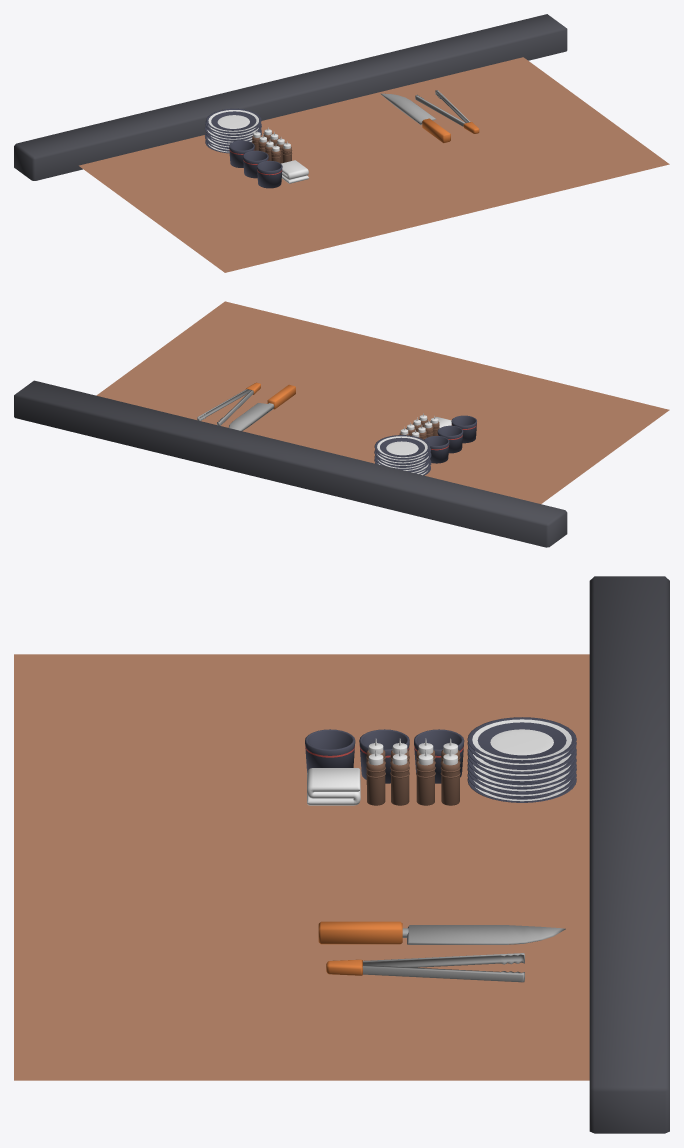
Rendered from obj0519 kitchen.fbx.
The picture shows the model from 3 angles, top to bottom: view 1: azimuth 30°, elevation 25°; view 2: azimuth 150°, elevation 25°; view 3: azimuth 270°, elevation 25°; orthographic projection. The views are drawn at different scales.
Parts seen in each view (by area): view 1: chop, marble, dish stack, miso, knife, sauce, tongs, dishcloth; view 2: chop, marble, dish stack, miso, knife, tongs, sauce; view 3: chop, marble, dish stack, knife, sauce, miso, tongs, dishcloth.
Part boxes in pixels (x1,y1,x2,y2): chop: (79,57,669,272); marble: (14,14,567,180); dish stack: (205,108,261,153); miso: (229,140,282,188); knife: (380,93,450,143); sauce: (252,127,292,163); tongs: (415,90,479,133); dishcloth: (281,160,308,183); chop: (96,301,669,503); marble: (14,380,567,547); dish stack: (374,435,431,475); miso: (424,415,476,463); knife: (228,384,295,430); tongs: (197,382,260,425); sauce: (399,413,439,439); chop: (14,654,589,1080); marble: (589,576,669,1133); dish stack: (467,717,576,802); knife: (318,921,565,944); sauce: (366,738,460,805); miso: (305,729,464,783); tongs: (326,953,524,982); dishcloth: (307,768,360,805).
Size of the model in its own units: 14.5 by 0.8202 by 7.84.
